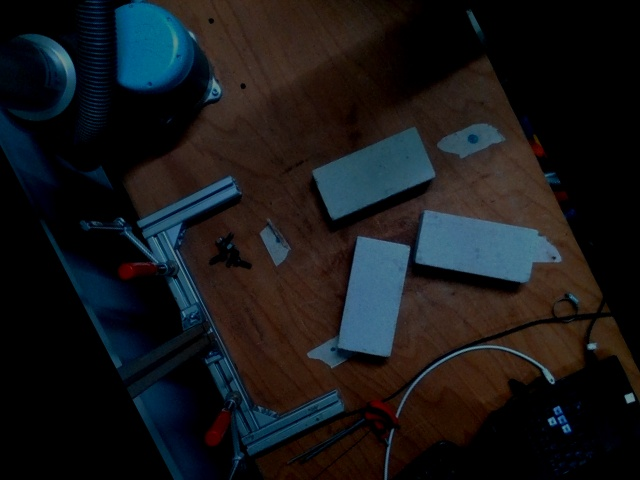brick: (314, 127, 436, 219), (414, 208, 540, 285), (337, 236, 410, 357)
